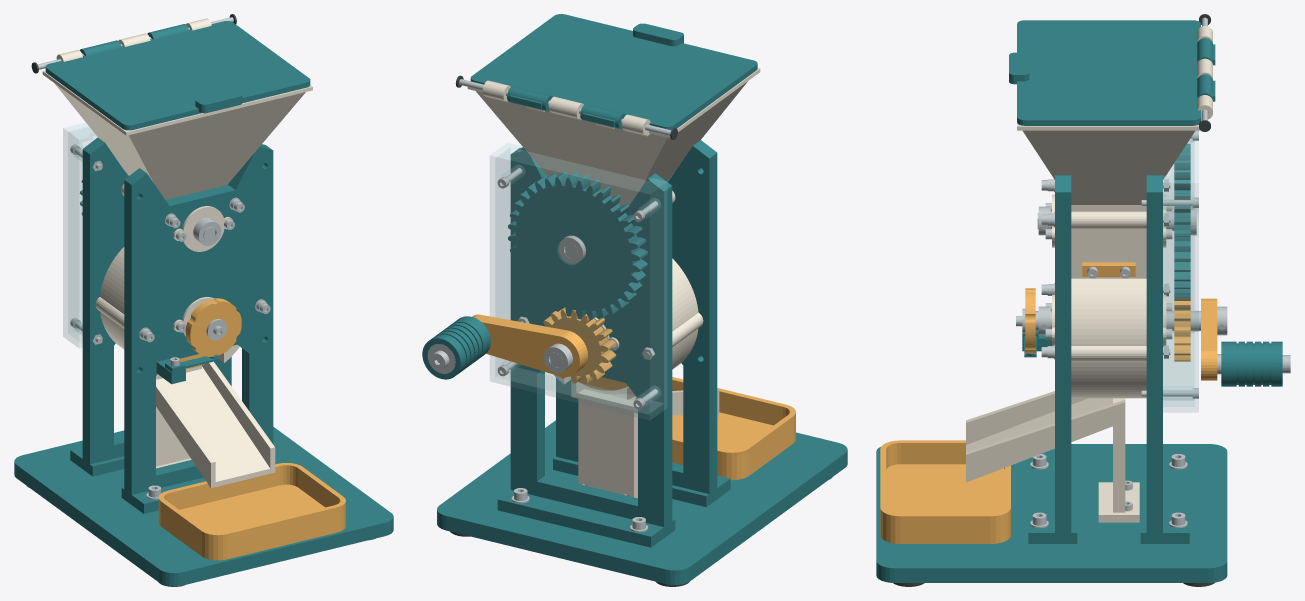
File: assembly.glb
The picture shows the model from 3 angles, left to right: view 1: azimuth 30°, elevation 25°; view 2: azimuth 150°, elevation 25°; view 3: azimuth 270°, elevation 25°; orthographic projection. The views are drawn at different scales.
Parts seen in each view (by area): view 1: left-cheek, hinged-lid, base, hopper-body, catch-tray, right-cheek, delivery-chute, gear-guard, six-click-cam, agitator-retainer-left, agitator-shaft-collar; view 2: gear-guard, right-cheek, base, hinged-lid, left-cheek, hopper-body, agitator-gear-36t, delivery-chute, catch-tray, crank-arm, drive-gear-18t, free-spinning-grip (+1 smaller); view 3: base, hopper-body, hinged-lid, catch-tray, delivery-chute, gear-guard, left-cheek, right-cheek, free-spinning-grip, agitator-gear-36t, crank-arm, drive-gear-18t (+2 smaller).
Boxes of the visible parts, x1,y1,x2,y2 form: left-cheek: [121, 144, 277, 513]; hinged-lid: [45, 21, 310, 130]; base: [14, 427, 393, 586]; hopper-body: [42, 18, 312, 362]; catch-tray: [158, 463, 345, 560]; right-cheek: [70, 137, 231, 476]; delivery-chute: [156, 361, 275, 487]; gear-guard: [63, 122, 96, 348]; six-click-cam: [185, 298, 241, 356]; agitator-retainer-left: [173, 206, 232, 251]; agitator-shaft-collar: [193, 217, 221, 245]; gear-guard: [490, 143, 667, 419]; right-cheek: [497, 147, 675, 547]; base: [437, 420, 847, 584]; hinged-lid: [470, 14, 757, 130]; left-cheek: [553, 140, 730, 507]; hopper-body: [467, 68, 760, 399]; agitator-gear-36t: [508, 171, 647, 319]; delivery-chute: [571, 380, 719, 498]; catch-tray: [672, 377, 795, 480]; crank-arm: [472, 314, 587, 377]; drive-gear-18t: [543, 307, 616, 384]; free-spinning-grip: [422, 316, 490, 379]; base: [876, 444, 1227, 582]; hopper-body: [1017, 26, 1212, 398]; hinged-lid: [1009, 20, 1215, 125]; catch-tray: [880, 440, 1010, 543]; delivery-chute: [966, 391, 1139, 522]; gear-guard: [1163, 131, 1198, 412]; left-cheek: [1022, 175, 1077, 543]; right-cheek: [1140, 175, 1189, 543]; free-spinning-grip: [1221, 341, 1282, 386]; agitator-gear-36t: [1174, 143, 1190, 298]; crank-arm: [1201, 298, 1217, 380]; drive-gear-18t: [1174, 298, 1190, 361].
Bounding box in the file's own units: 0.144 × 0.251 × 0.203.
